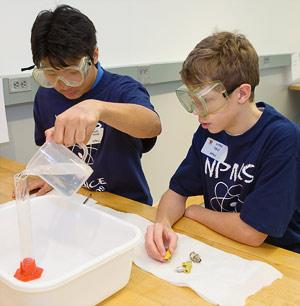person: (12, 7, 162, 209)
